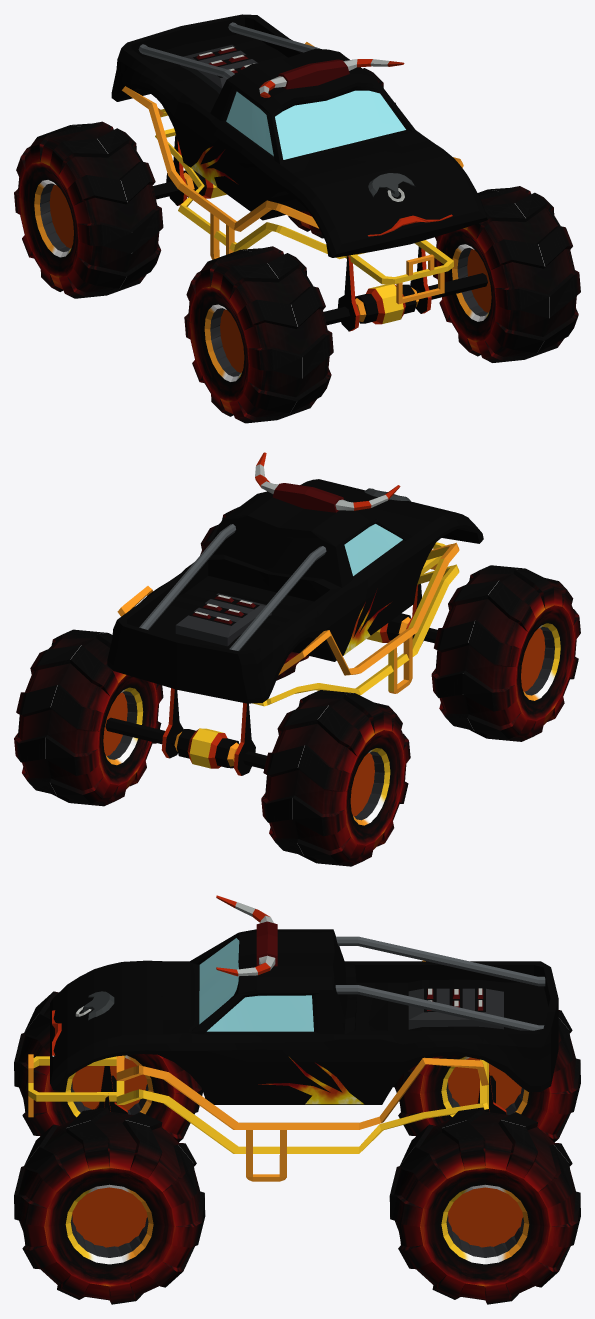
File: truck 9.fbx
3 renders of one model, top to bottom at view 1: azimuth 30°, elevation 25°; view 2: azimuth 150°, elevation 25°; view 3: azimuth 270°, elevation 25°, orthographic. The views are drawn at different scales.
Visible parts, largest first — view 1: Monster_Truck_Body_Bull_0, Wheel_FL_Bull_0.003, Wheel_FL_Bull_0.001, Wheel_FL_Bull_0; view 2: Monster_Truck_Body_Bull_0, Wheel_FL_Bull_0.003, Wheel_FL_Bull_0.001, Wheel_FL_Bull_0.002, Wheel_FL_Bull_0; view 3: Monster_Truck_Body_Bull_0, Wheel_FL_Bull_0, Wheel_FL_Bull_0.002, Wheel_FL_Bull_0.003, Wheel_FL_Bull_0.001.
Part boxes in pixels (<box>): Monster_Truck_Body_Bull_0: <box>111,14,487,331</box>; Wheel_FL_Bull_0.003: <box>14,121,163,298</box>; Wheel_FL_Bull_0.001: <box>184,246,333,423</box>; Wheel_FL_Bull_0: <box>433,186,580,362</box>; Monster_Truck_Body_Bull_0: <box>105,452,483,775</box>; Wheel_FL_Bull_0.003: <box>261,690,410,866</box>; Wheel_FL_Bull_0.001: <box>431,565,580,741</box>; Wheel_FL_Bull_0.002: <box>14,629,163,806</box>; Wheel_FL_Bull_0: <box>200,507,309,680</box>; Monster_Truck_Body_Bull_0: <box>28,895,558,1181</box>; Wheel_FL_Bull_0: <box>14,1107,205,1304</box>; Wheel_FL_Bull_0.002: <box>389,1107,580,1304</box>; Wheel_FL_Bull_0.003: <box>393,1010,580,1142</box>; Wheel_FL_Bull_0.001: <box>14,991,202,1142</box>.
Bounding box in the file's own units: 36.33 × 28.59 × 49.72.
Materials: 1 (1 with a texture image).
